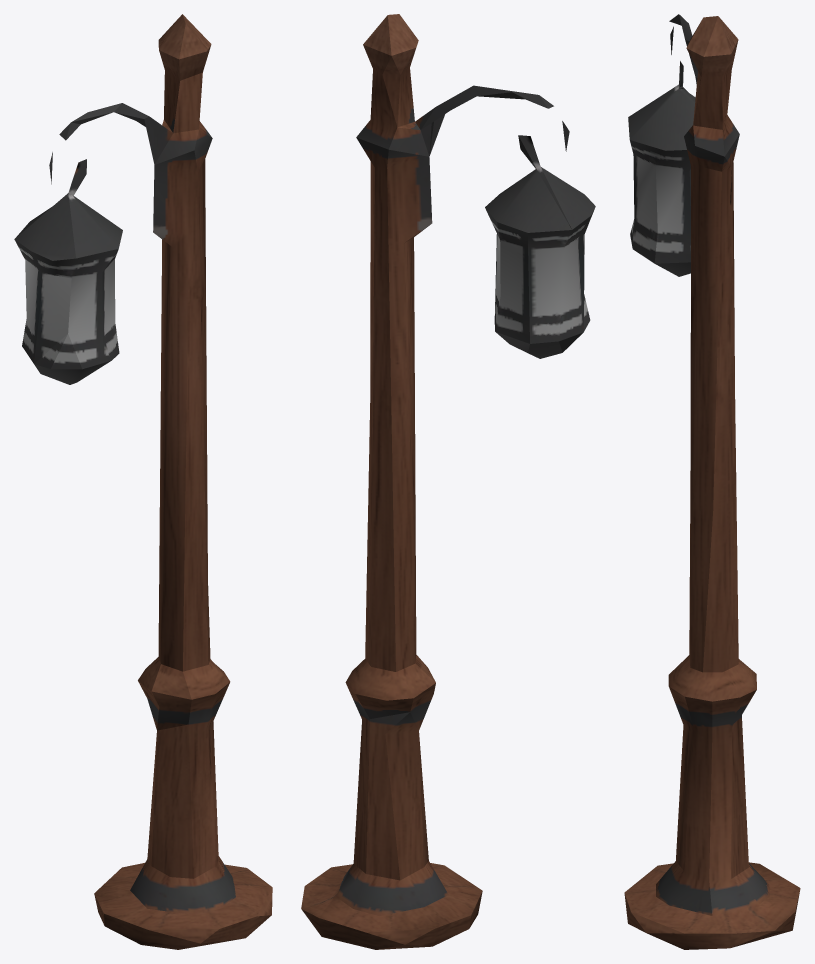
Rendered from post_light_lod0.glb.
3 views of the same model, side by side, from view 1: azimuth 30°, elevation 25°; view 2: azimuth 150°, elevation 25°; view 3: azimuth 270°, elevation 25° (orthographic).
Visible parts, largest first — view 1: low; view 2: low; view 3: low.
Boxes of the visible parts, bbox=[...] form: low: bbox=[14, 14, 272, 949]; low: bbox=[301, 14, 595, 949]; low: bbox=[624, 14, 800, 949].
Bounding box in the file's own units: 0.5834 × 1.99 × 0.3523.
1 material, 1 textured.
